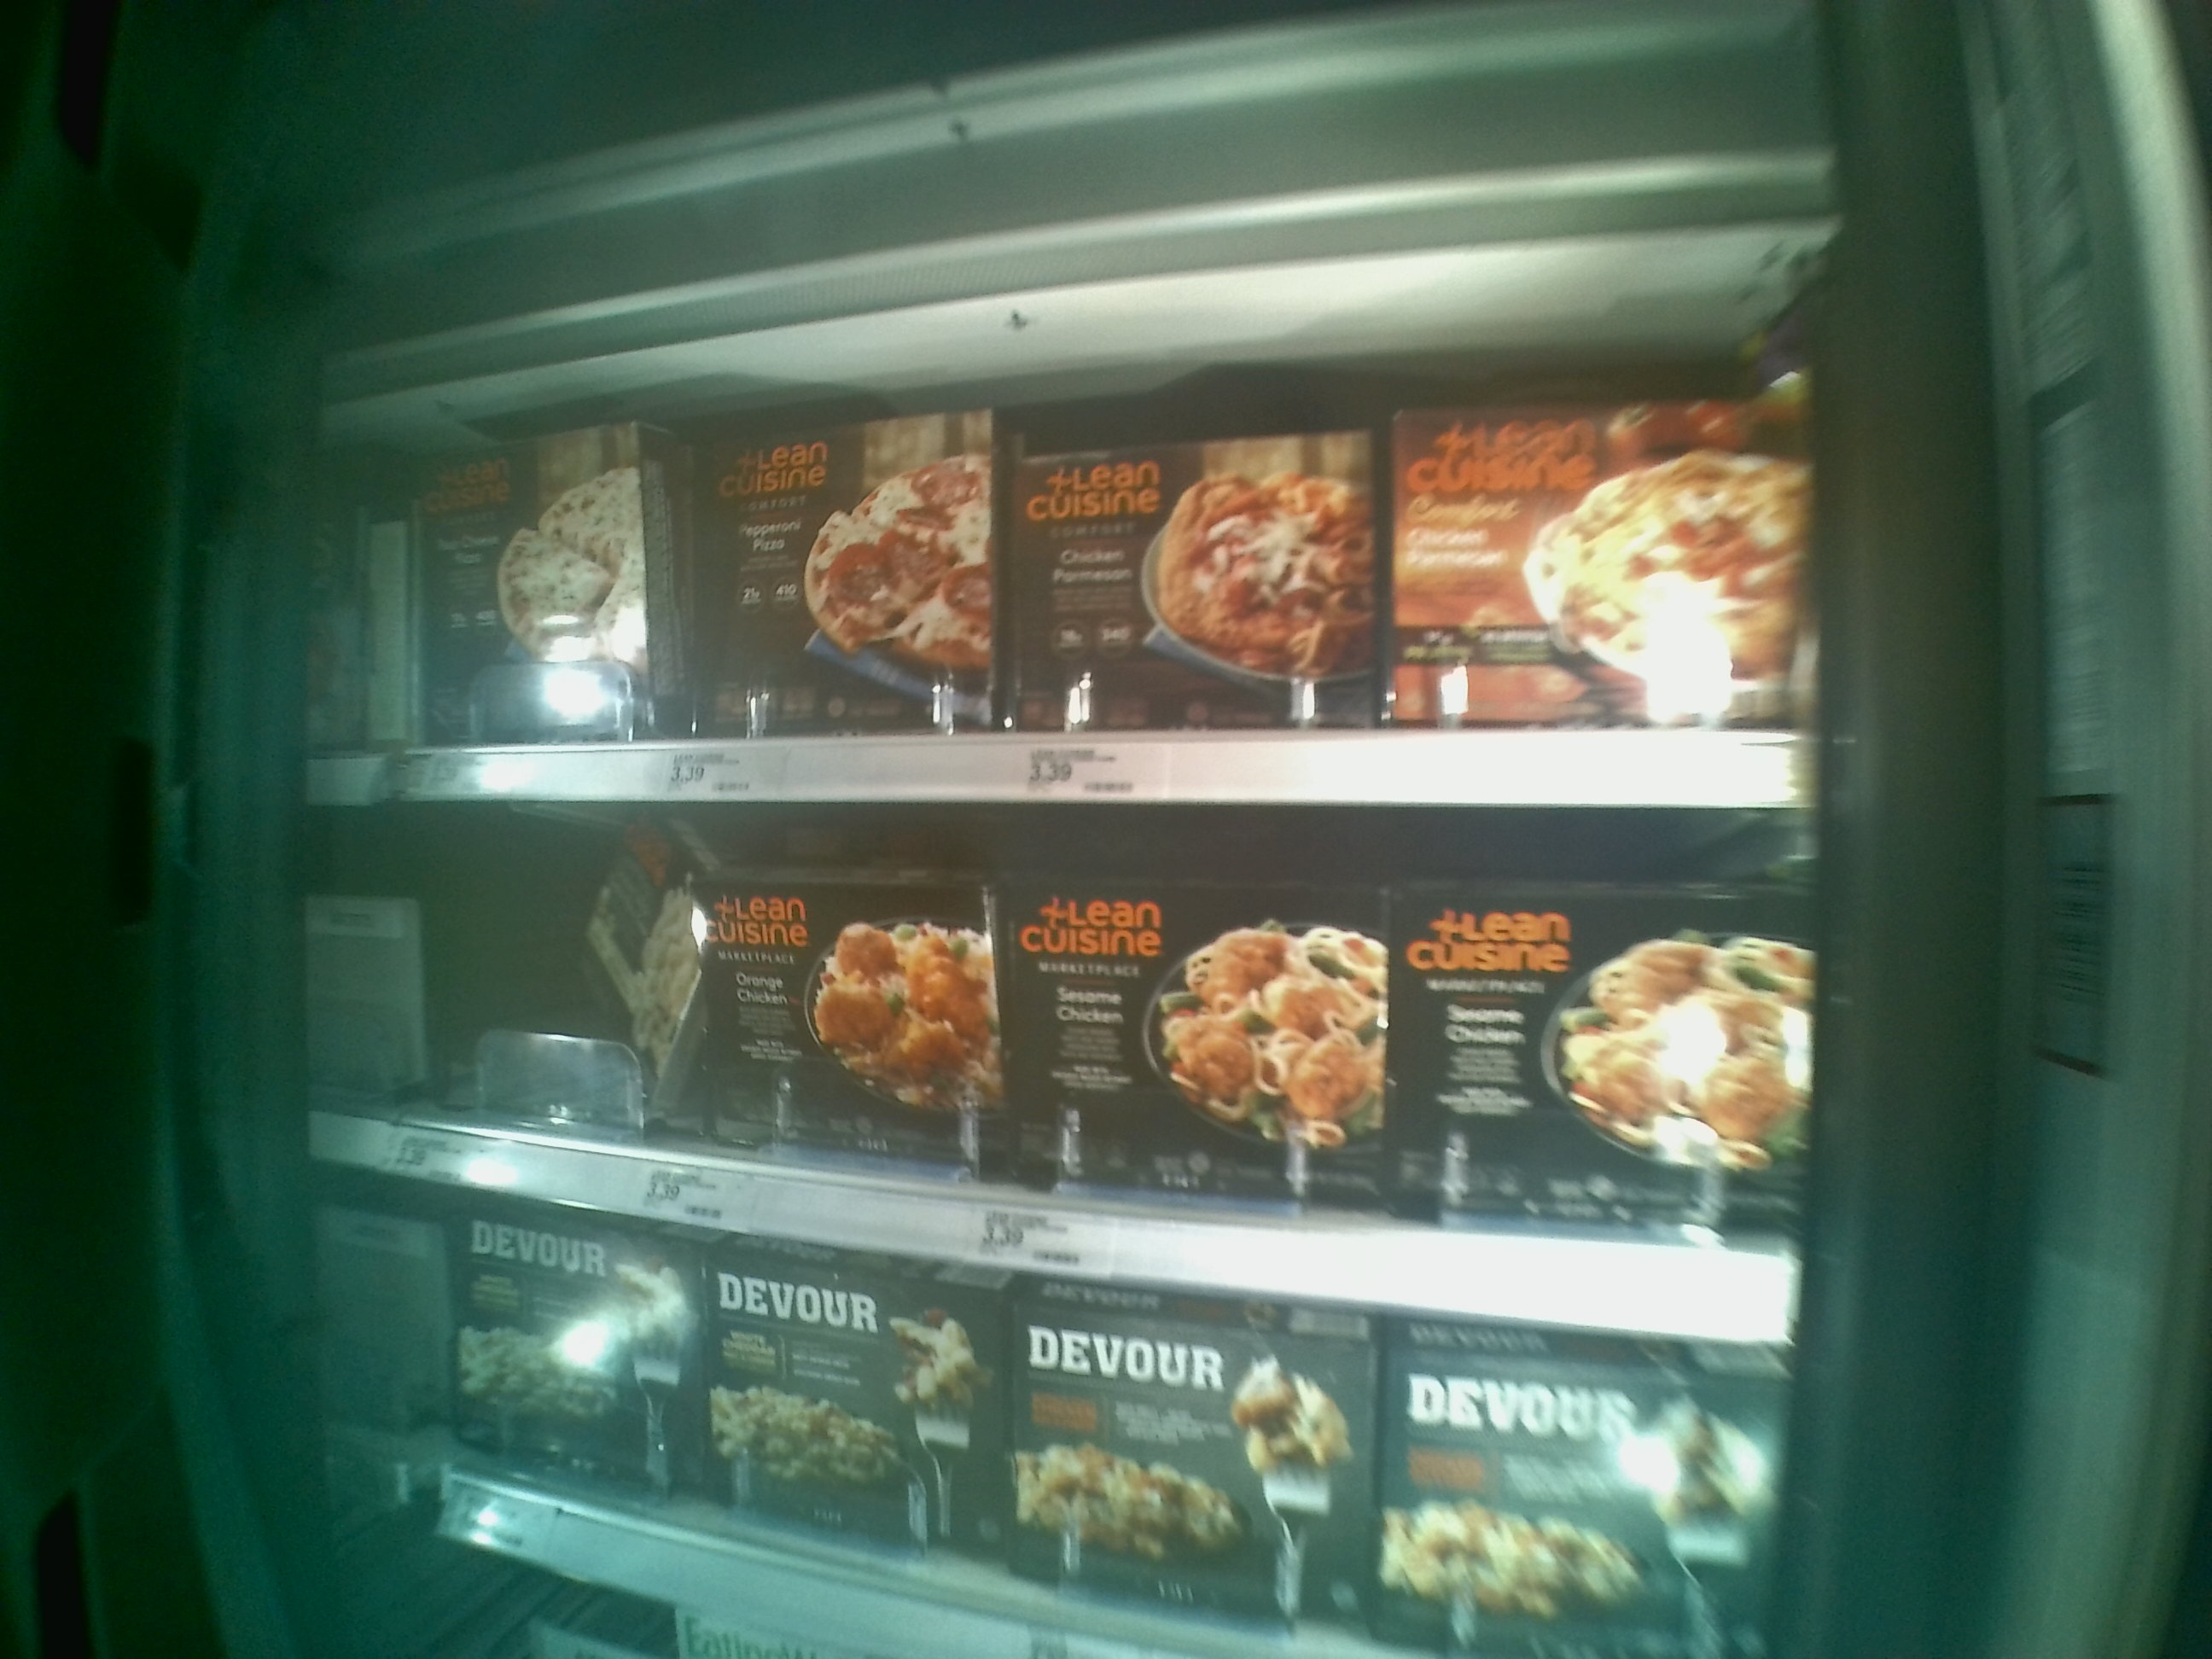shelf: (298, 796, 1806, 1333), (324, 301, 1832, 807)
